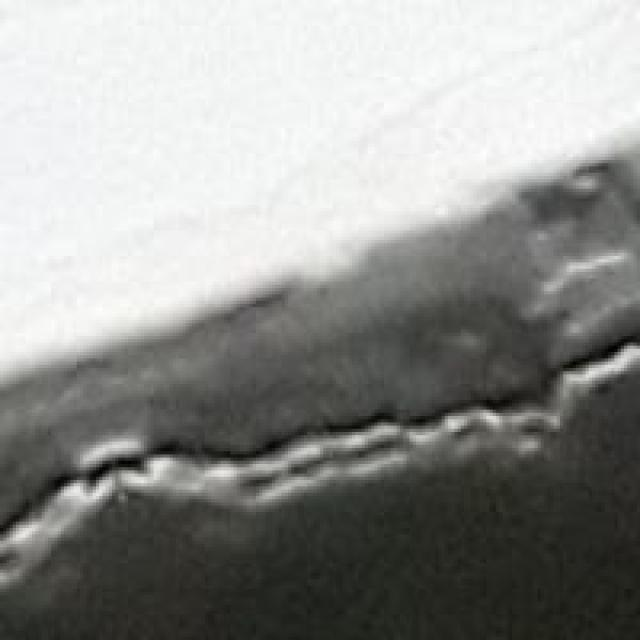Crack: (3, 355, 637, 637)
